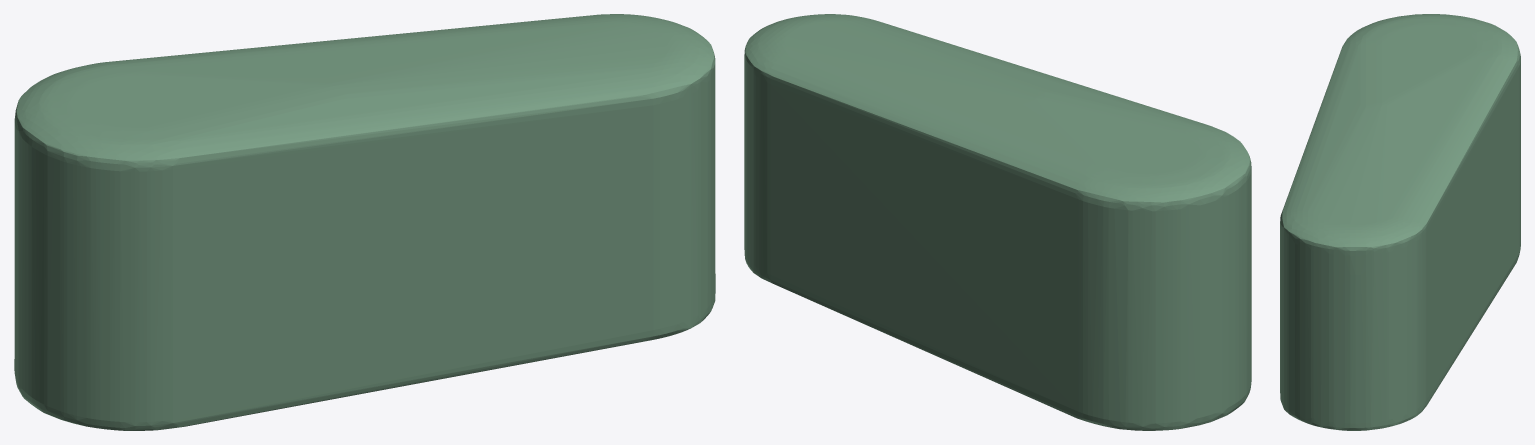
Rendered from torso_l1.obj.
3 views of the same model, side by side, from view 1: azimuth 30°, elevation 25°; view 2: azimuth 150°, elevation 25°; view 3: azimuth 270°, elevation 25° (orthographic). The views are drawn at different scales.
Parts seen in each view (by area): view 1: geometry_0; view 2: geometry_0; view 3: geometry_0.
Boxes of the visible parts, box(x1,y1,x2,y2) form: geometry_0: box(14, 14, 715, 430); geometry_0: box(744, 14, 1251, 430); geometry_0: box(1280, 14, 1520, 430).
Bounding box in the file's own units: 0.5728 × 0.2532 × 0.2582.
